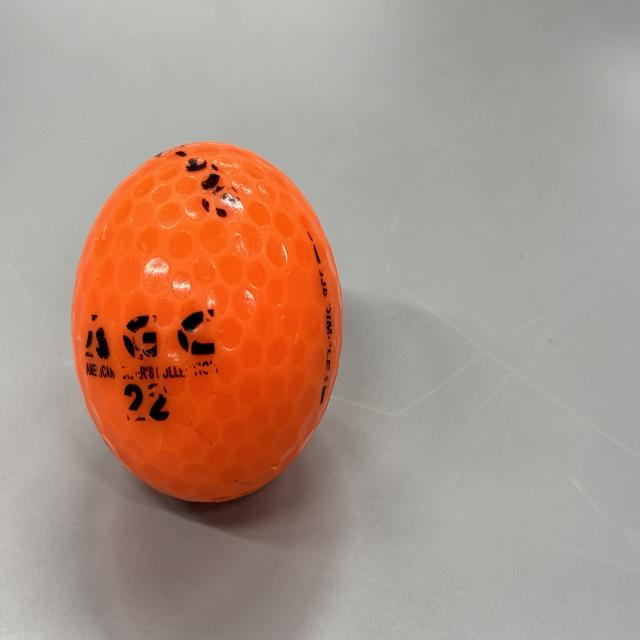ball: (67, 135, 348, 510)
